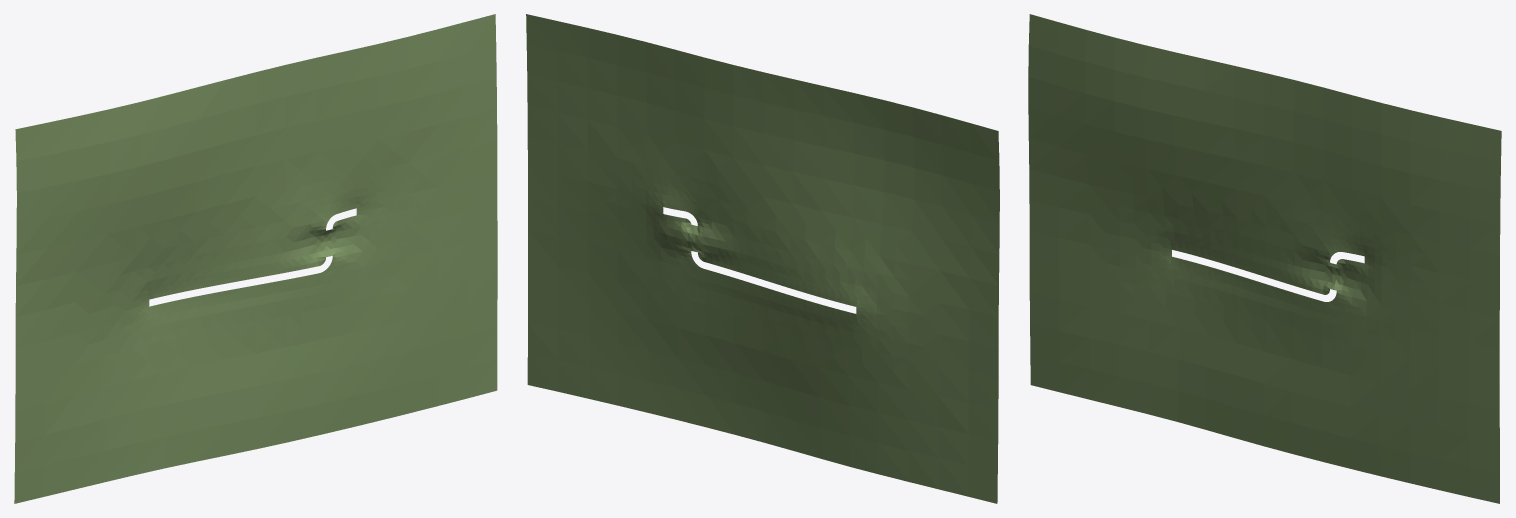
File: Hill brake_1.obj
3 renders of one model, left to right at view 1: azimuth 30°, elevation 25°; view 2: azimuth 150°, elevation 25°; view 3: azimuth 330°, elevation 25°, orthographic.
Visible parts, largest first — view 1: Background; view 2: Background; view 3: Background.
Boxes of the visible parts, left/top/right/bottom form: Background: left=14, top=14, right=497, bottom=503; Background: left=526, top=14, right=999, bottom=503; Background: left=1028, top=14, right=1501, bottom=503.
Bounding box in the file's own units: 640 × 480 × 24.04.
